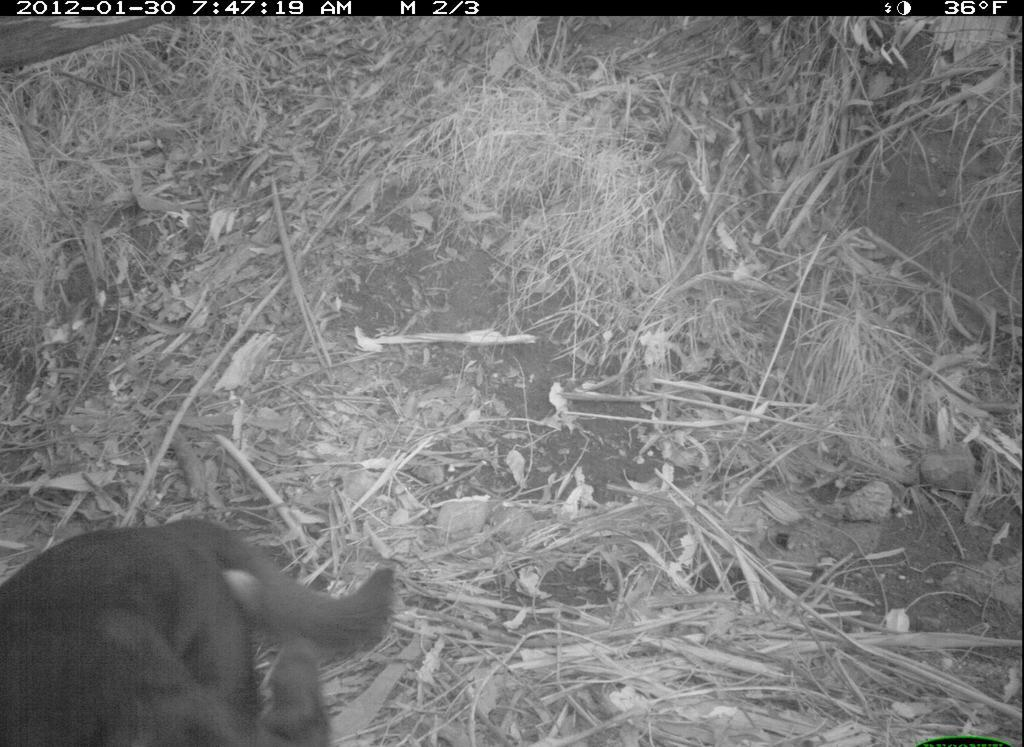dog: (1, 501, 411, 741)
